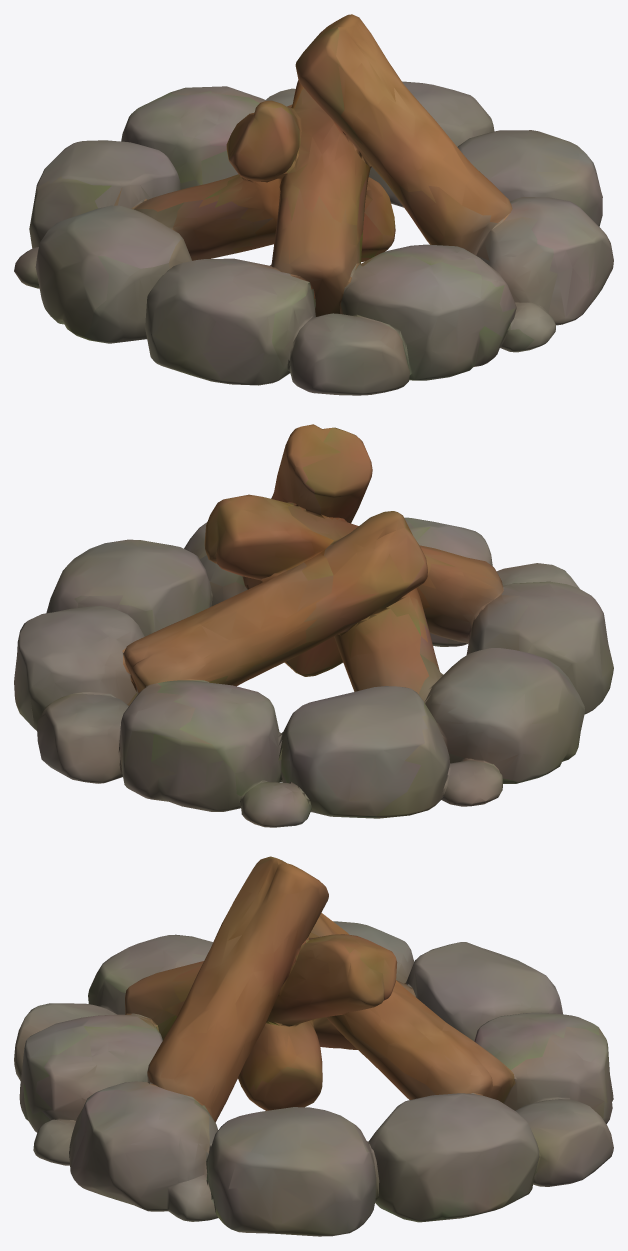
File: fogata.glb
3 renders of one model, top to bottom at view 1: azimuth 30°, elevation 25°; view 2: azimuth 150°, elevation 25°; view 3: azimuth 270°, elevation 25°, orthographic.
Visible parts, largest first — view 1: fogata_malla; view 2: fogata_malla; view 3: fogata_malla.
Boxes of the visible parts, left/top/right/bottom form: fogata_malla: left=14, top=14, right=613, bottom=395; fogata_malla: left=14, top=424, right=613, bottom=827; fogata_malla: left=14, top=856, right=613, bottom=1236.
Bounding box in the file's own units: 0.2072 × 0.1015 × 0.2079.
Materials: 1 (1 with a texture image).
